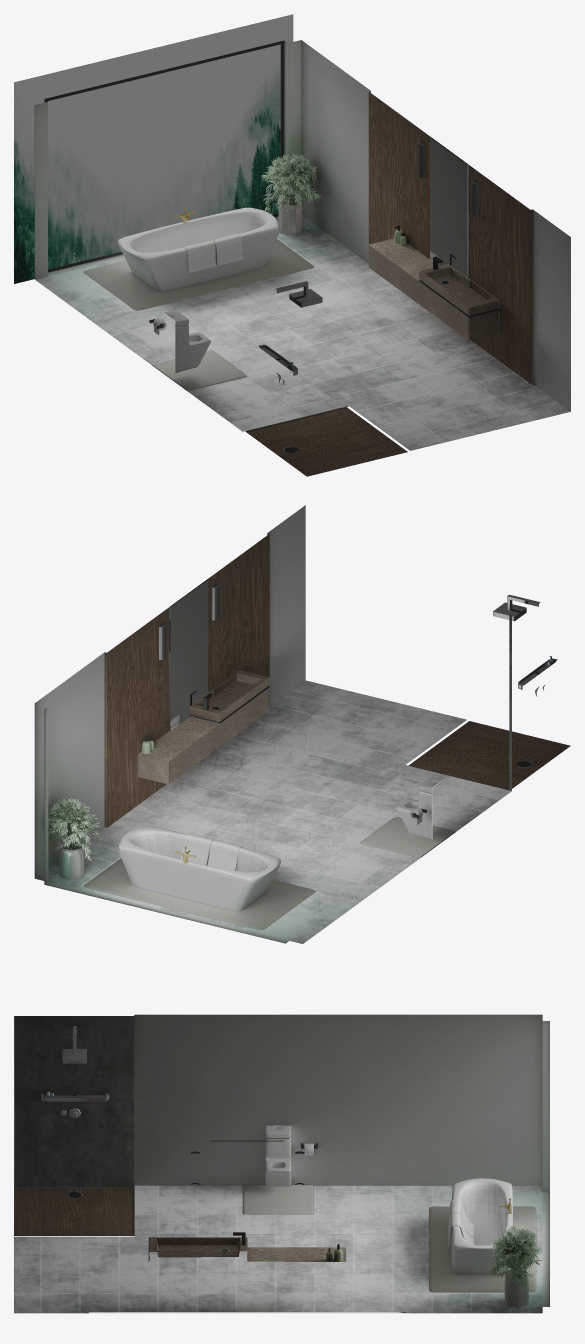
The model's file is bathroom-xs.glb.
3 renders of one model, top to bottom at view 1: azimuth 30°, elevation 25°; view 2: azimuth 150°, elevation 25°; view 3: azimuth 270°, elevation 25°, orthographic. The views are drawn at different scales.
Visible parts, largest first — view 1: Modern Bathroom; view 2: Modern Bathroom; view 3: Modern Bathroom.
Part boxes in pixels (x1,y1,x2,y2): Modern Bathroom: (14, 14, 570, 476); Modern Bathroom: (34, 505, 570, 943); Modern Bathroom: (14, 1014, 549, 1313).
Size of what is drawn, in the model's own units: 4.35 by 3 by 7.66.
13 materials, 13 textured.
